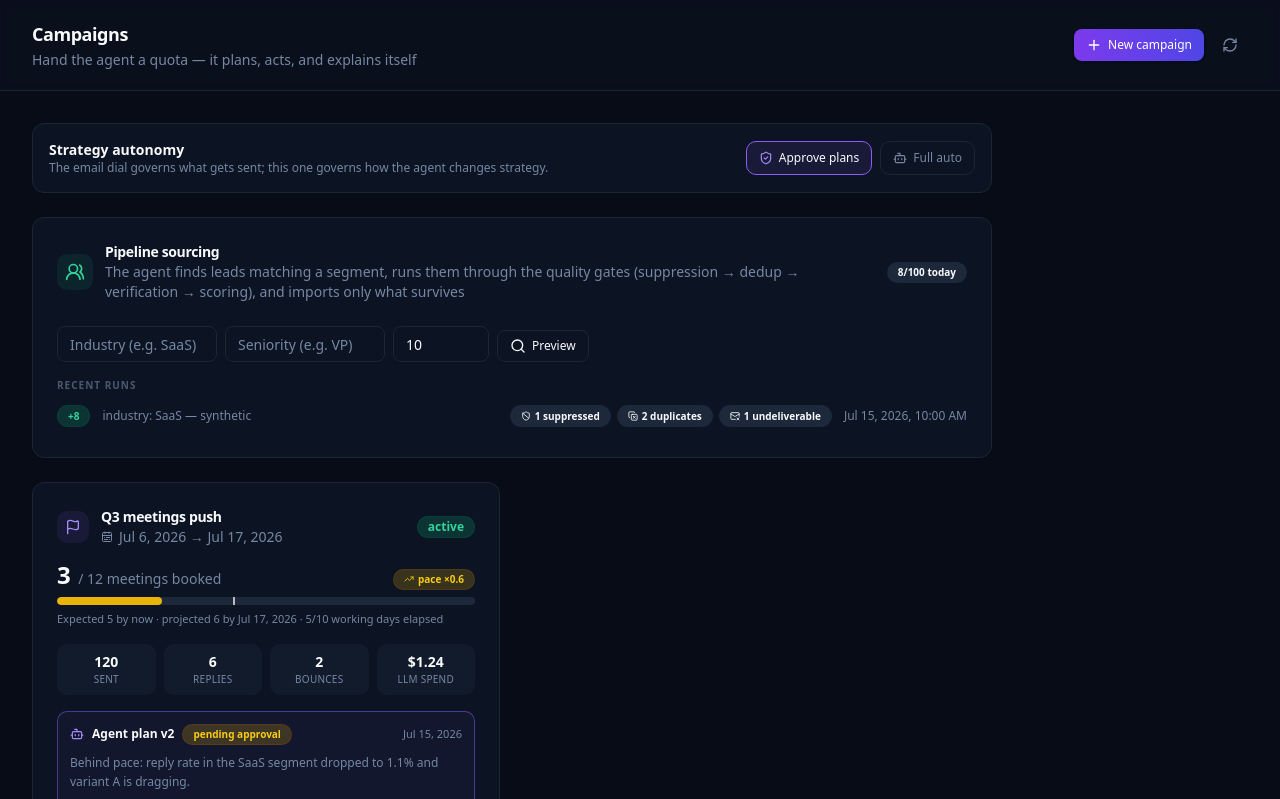
Test: Campaigns page › creates a campaign through the dialog
Expected: the text "Strategy autonomy" is shown, [49,140,184,159]
Click the button "New campaign" at coordinates (1139, 45), box [1074,29,1204,61]
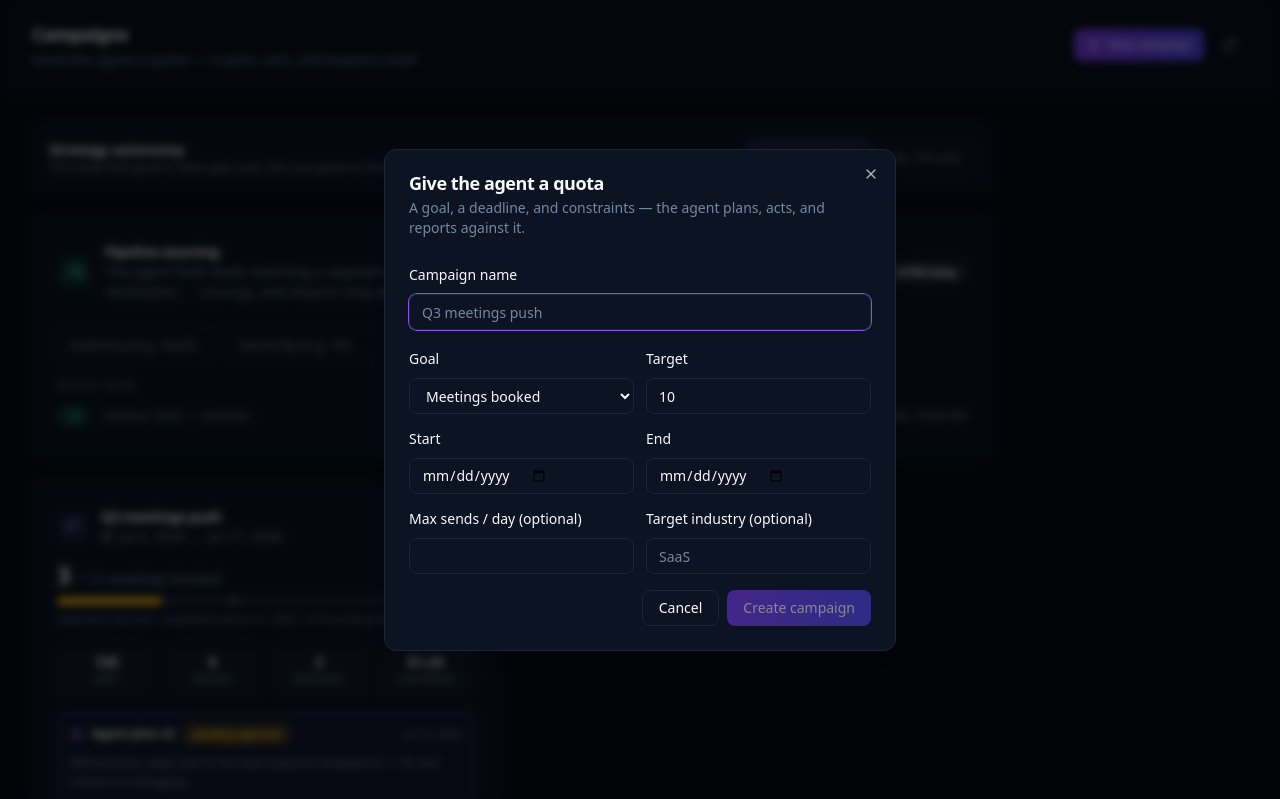
Type "Autumn pipeline build" into the field with placeholder "Q3 meetings push" at coordinates (640, 312), box [409,294,871,330]
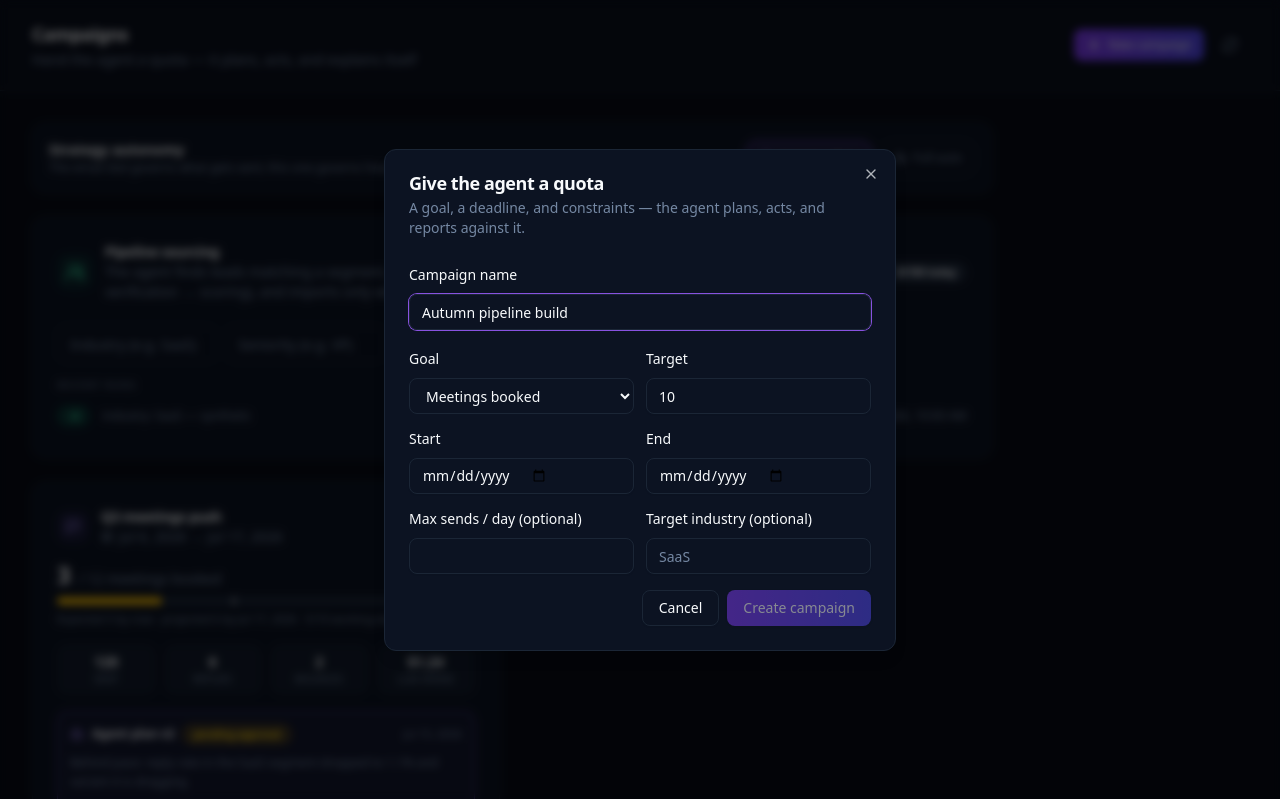
Type "2026-08-03" into the date field named "Period start" at coordinates (522, 476), box [409,458,634,494]
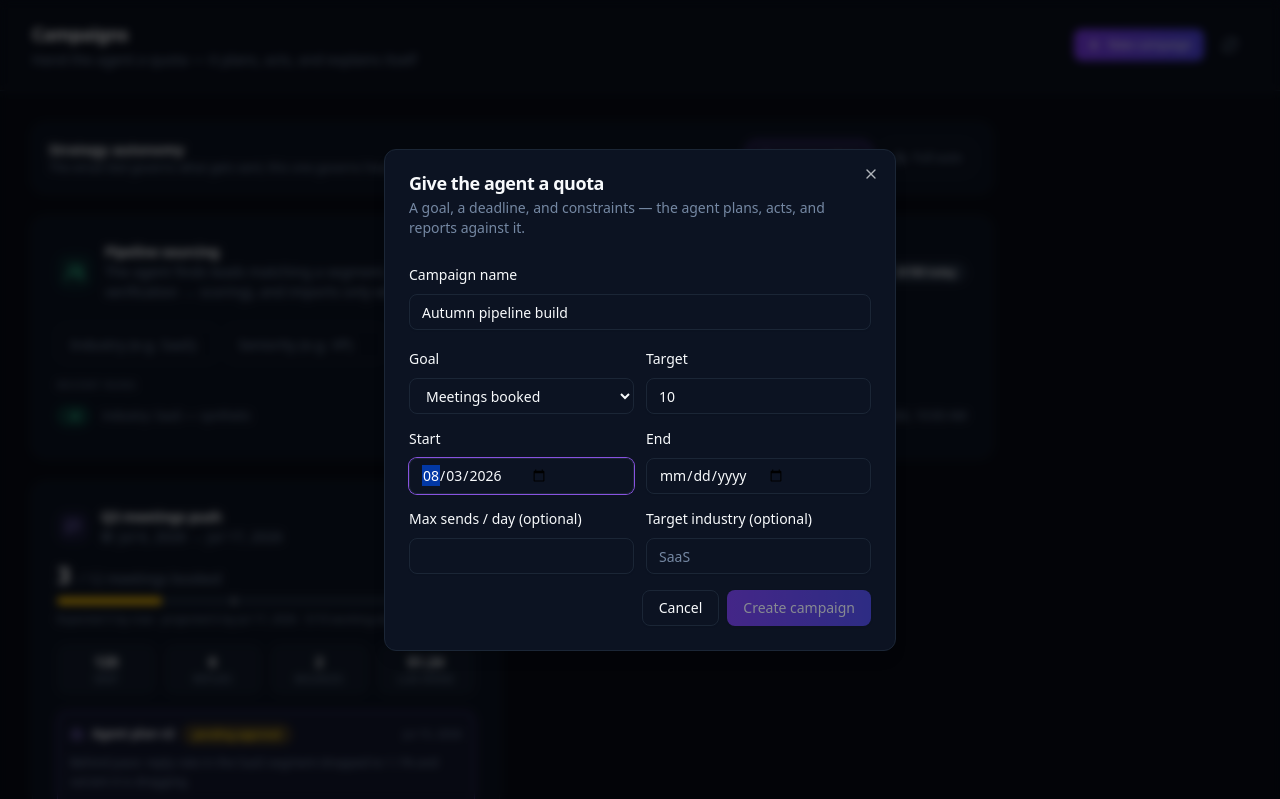
Type "2026-08-28" into the date field named "Period end" at coordinates (758, 476), box [646,458,871,494]
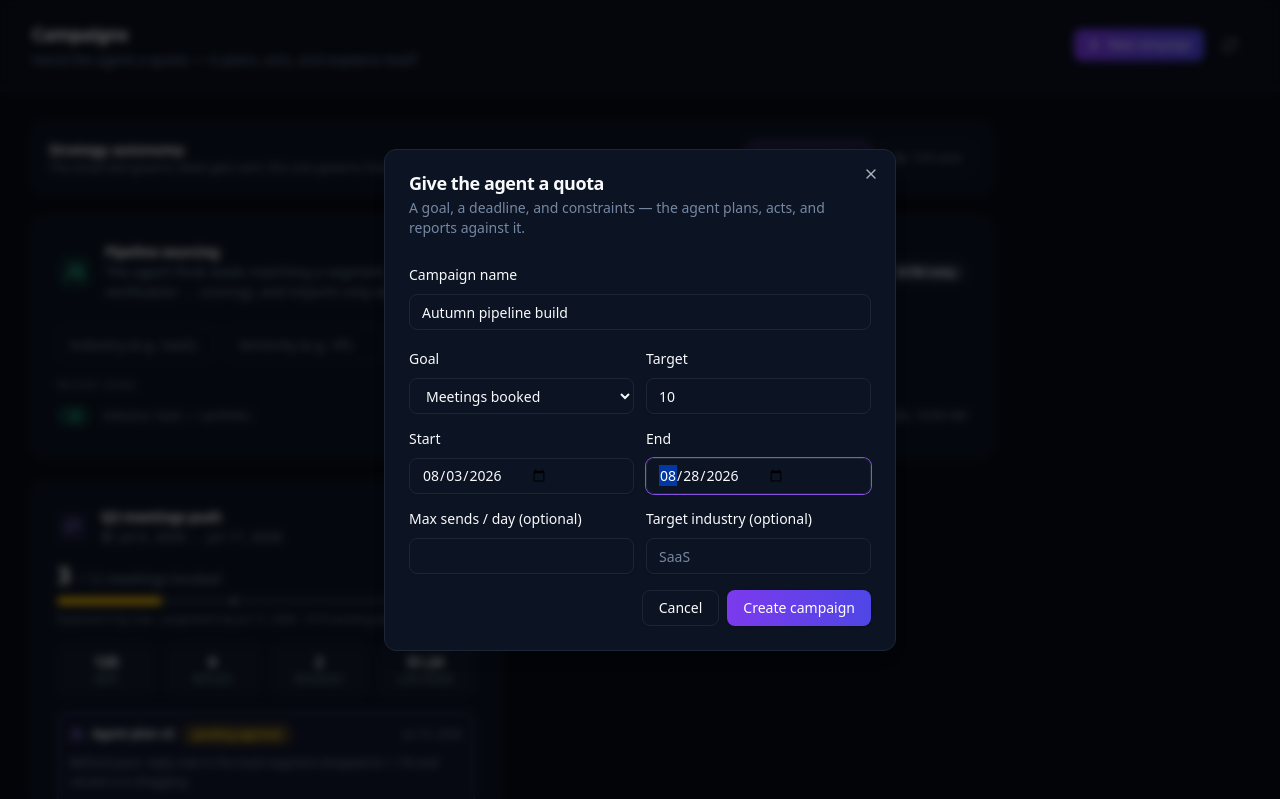
Click the button "Create campaign" at coordinates (799, 608), box [727,590,871,626]
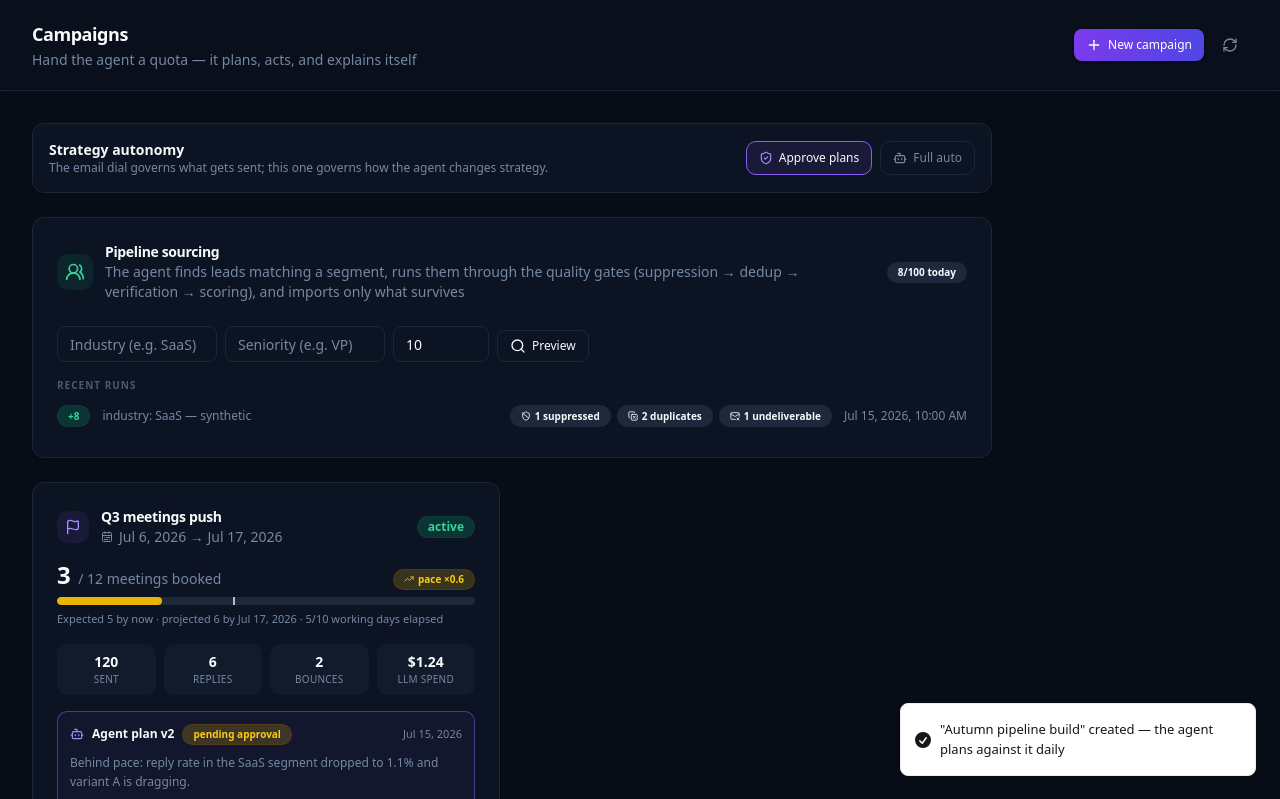
Expected: the text "\"Autumn pipeline build\" created" is shown, [940,720,1213,758]
